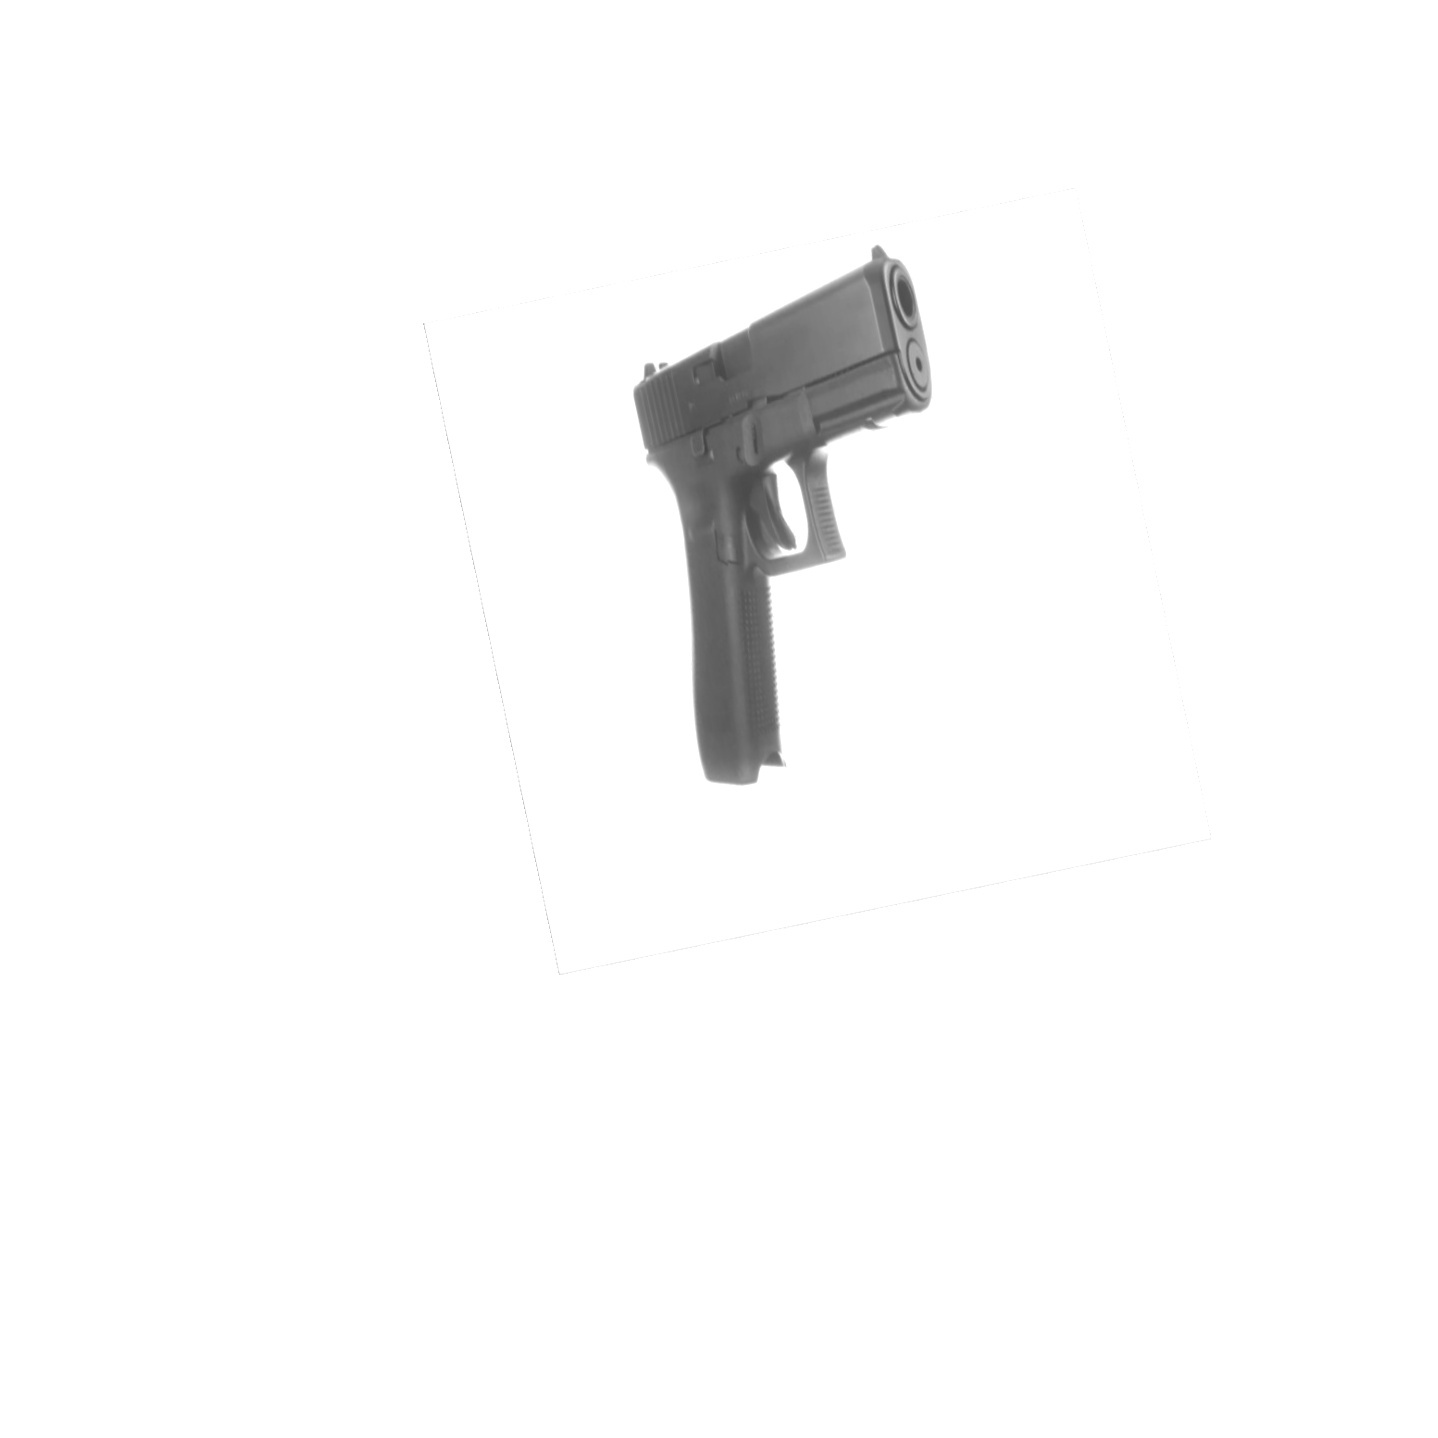gun: (628, 238, 953, 790)
